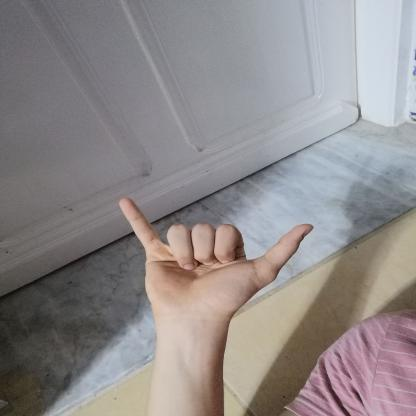YA: (106, 188, 325, 334)
